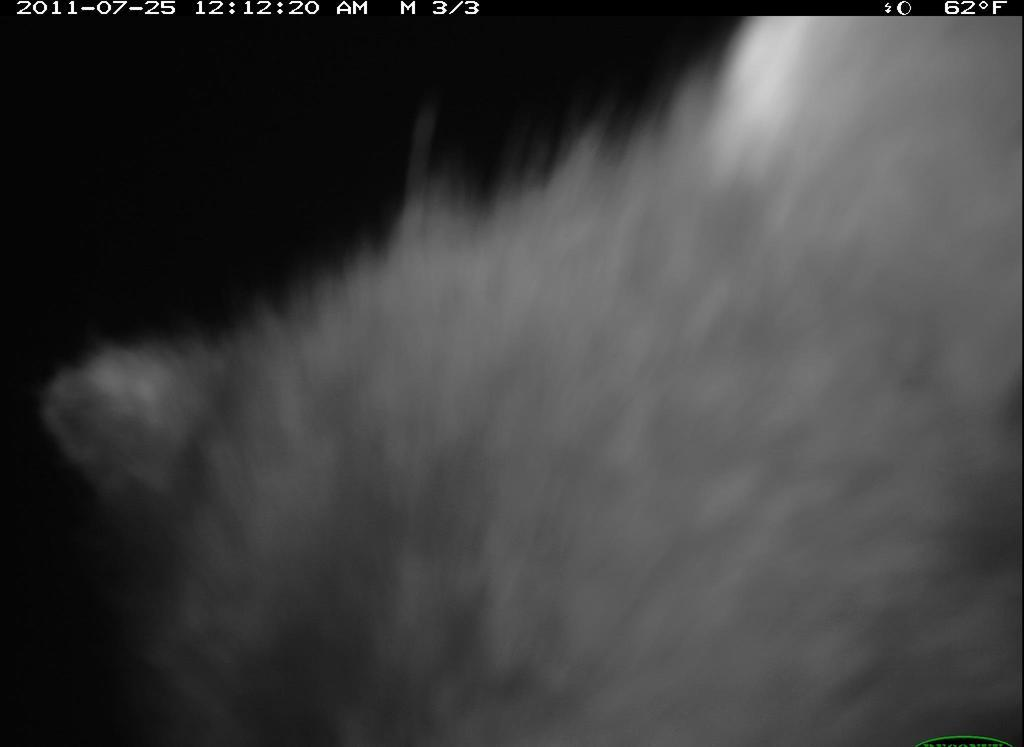raccoon: (40, 12, 1021, 747)
